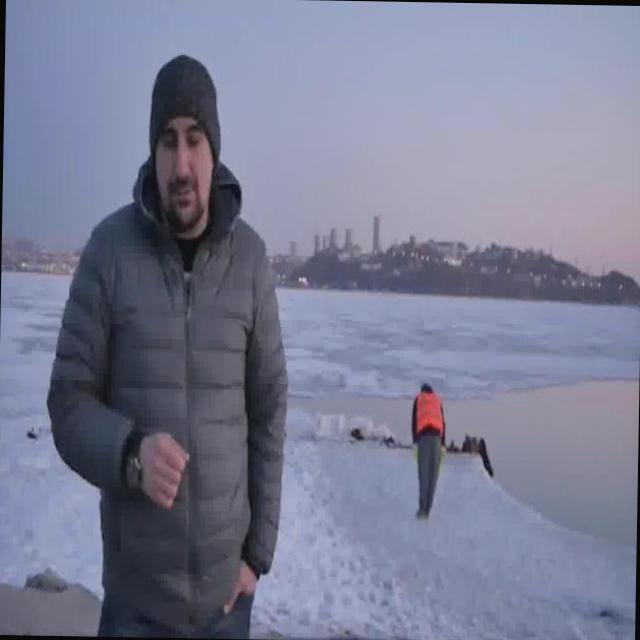vest: (416, 386, 445, 441)
